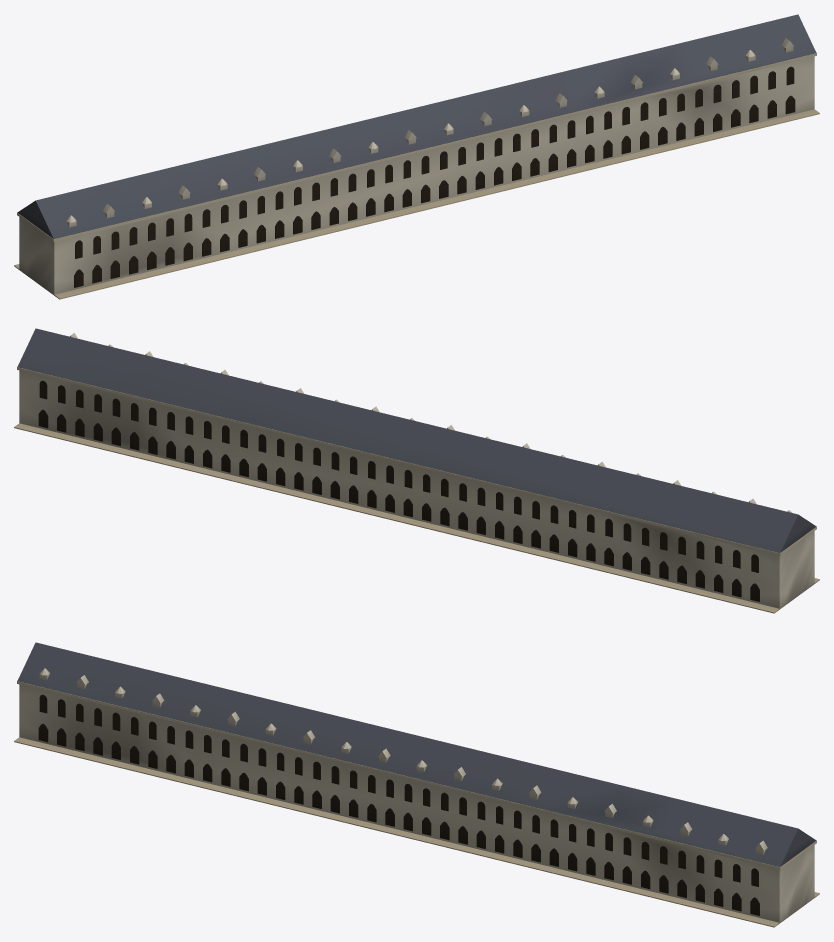
Rendered from grande-galerie.glb.
3 renders of one model, top to bottom at view 1: azimuth 30°, elevation 25°; view 2: azimuth 150°, elevation 25°; view 3: azimuth 330°, elevation 25°, orthographic.
Visible parts, largest first — view 1: p0_gallery, p1_roof; view 2: p0_gallery, p1_roof; view 3: p0_gallery, p1_roof.
Boxes of the visible parts, bbox=[...] form: p0_gallery: bbox=[14, 14, 819, 299]; p1_roof: bbox=[17, 53, 816, 241]; p0_gallery: bbox=[14, 328, 819, 613]; p1_roof: bbox=[17, 367, 816, 555]; p0_gallery: bbox=[14, 642, 819, 927]; p1_roof: bbox=[17, 681, 816, 869].
Bounding box in the file's own units: 251 × 25.99 × 25.99.
